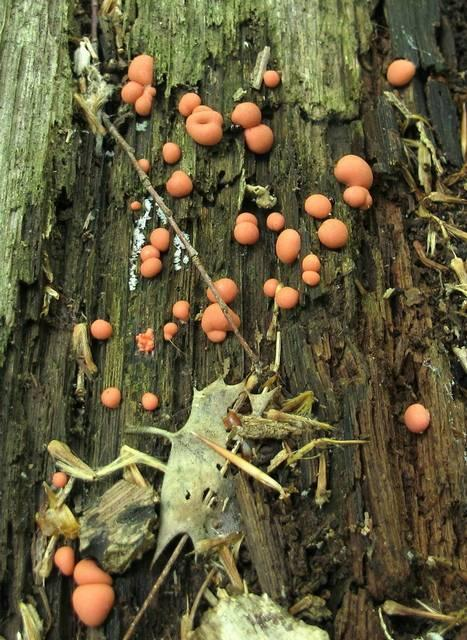poisonous_mushroom: (58, 41, 367, 401), (70, 582, 115, 627), (184, 105, 223, 146), (333, 153, 373, 188), (385, 57, 416, 87), (402, 402, 431, 434), (99, 386, 122, 409)
